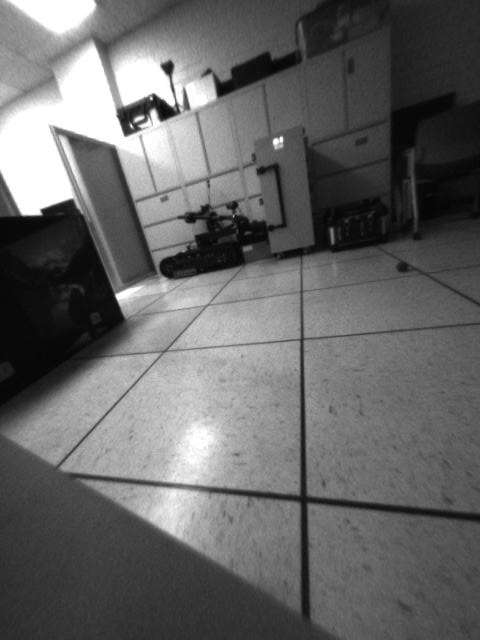dogtoy: (392, 251, 421, 277)
